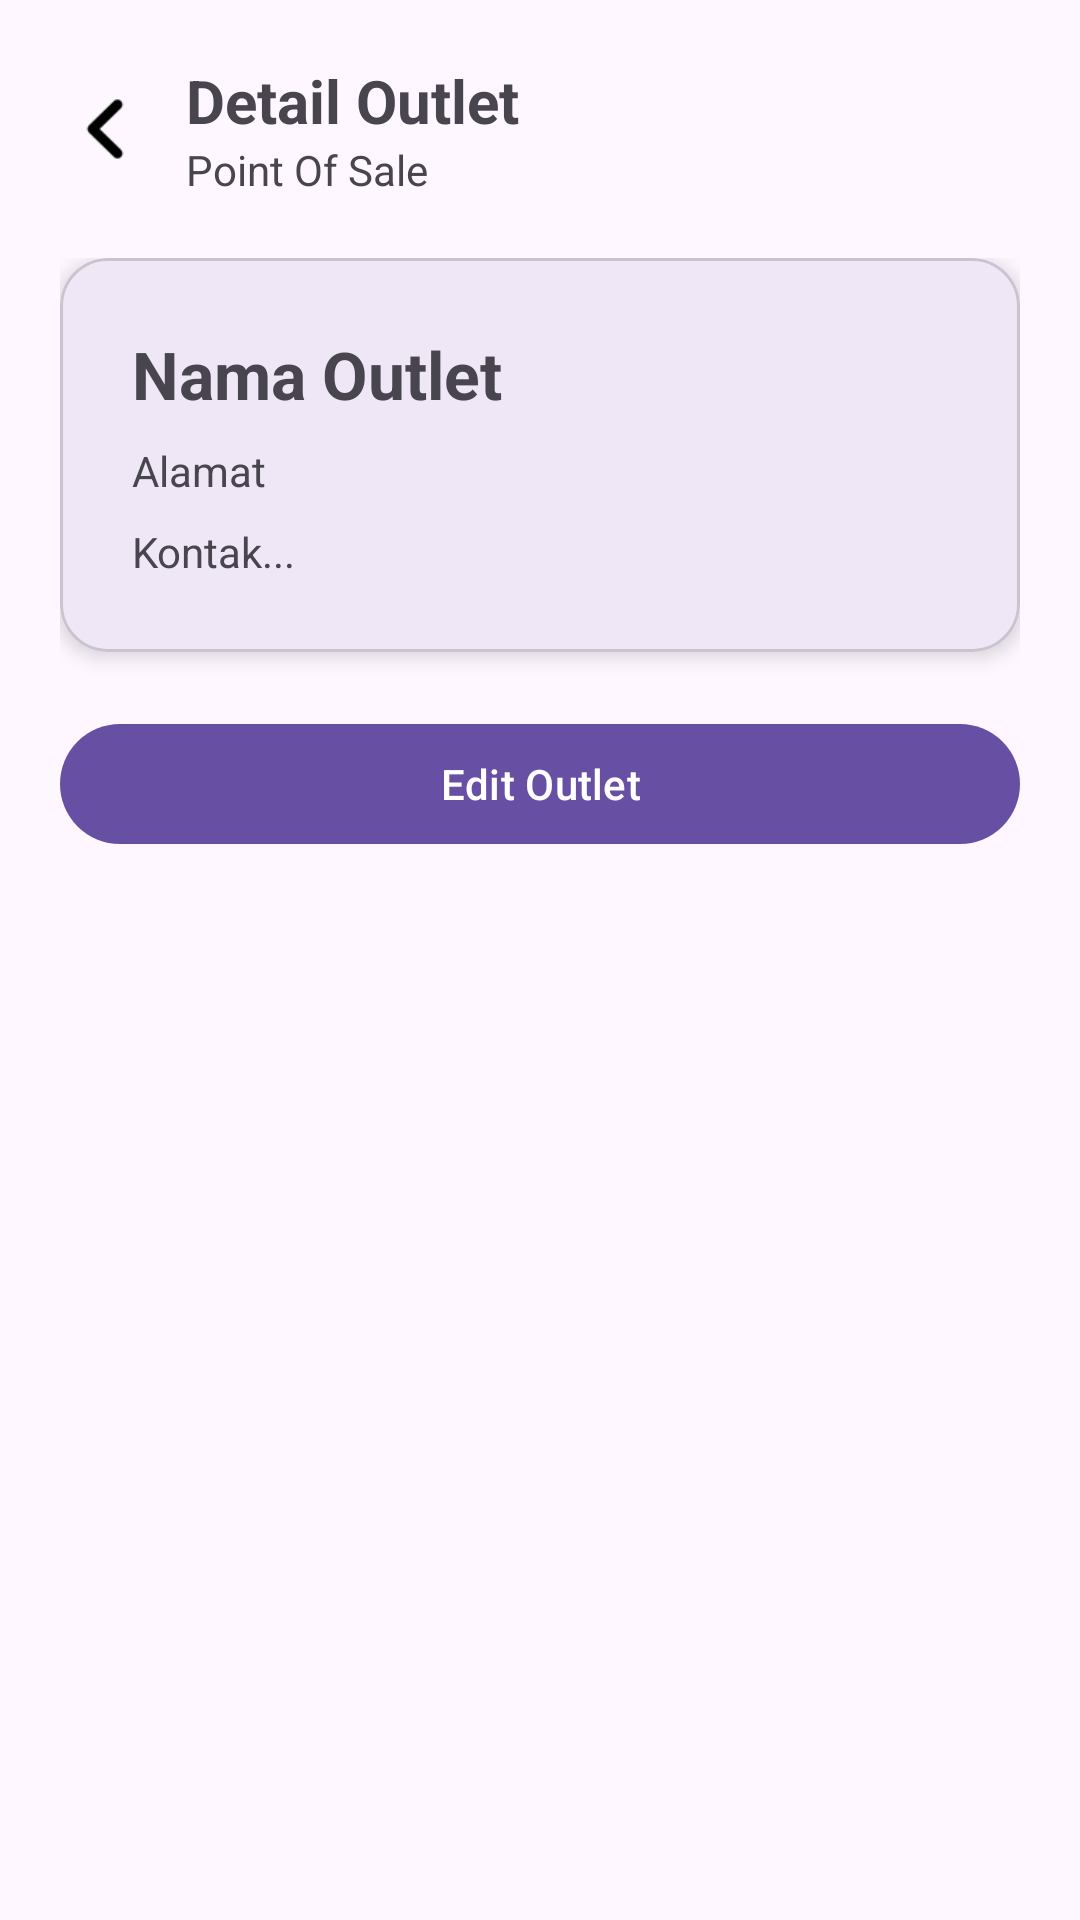

Icons on this 1080px×1920px Android screen, each with its box as (x1, y1, x2, y2):
back: (86, 99, 124, 159)
